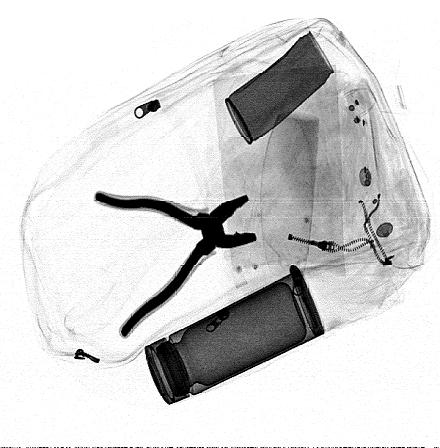Pliers: (93, 189, 258, 339)
